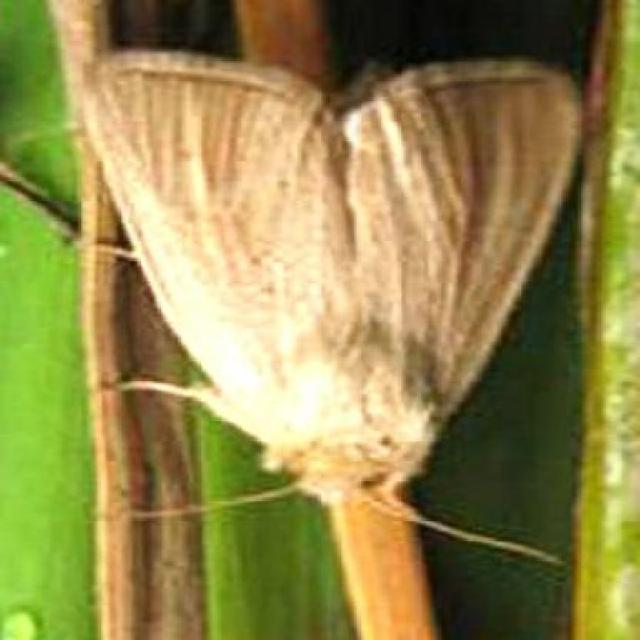stem-borer: (74, 45, 581, 570)
